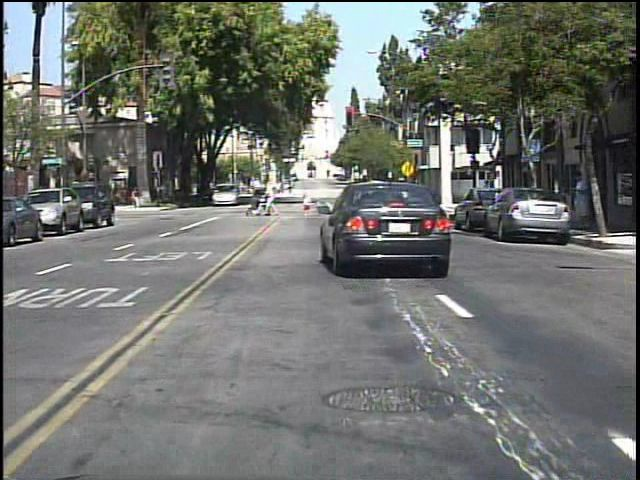person: (566, 171, 590, 236), (264, 177, 282, 219), (153, 182, 165, 209), (130, 186, 141, 212)
